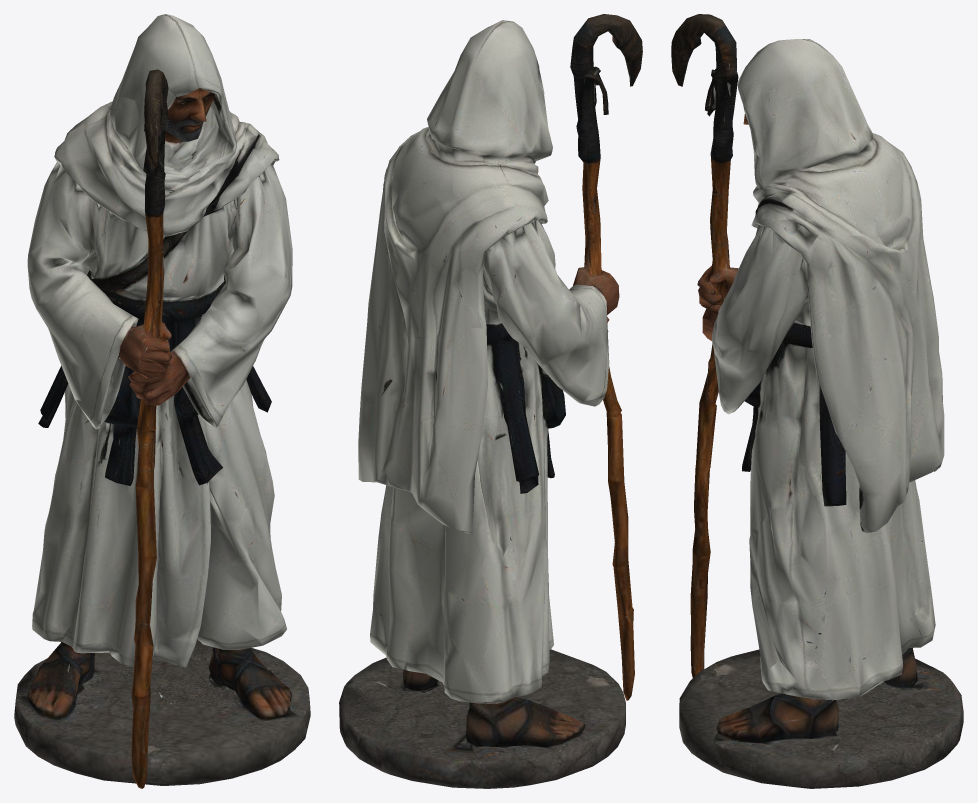
Rendered from monks.glb.
The picture shows the model from 3 angles, left to right: view 1: azimuth 30°, elevation 25°; view 2: azimuth 150°, elevation 25°; view 3: azimuth 270°, elevation 25°; orthographic projection. The views are drawn at different scales.
Bounding box in the file's own units: 0.7074 × 1.9 × 0.73.
Materials: 1 (1 with a texture image).
